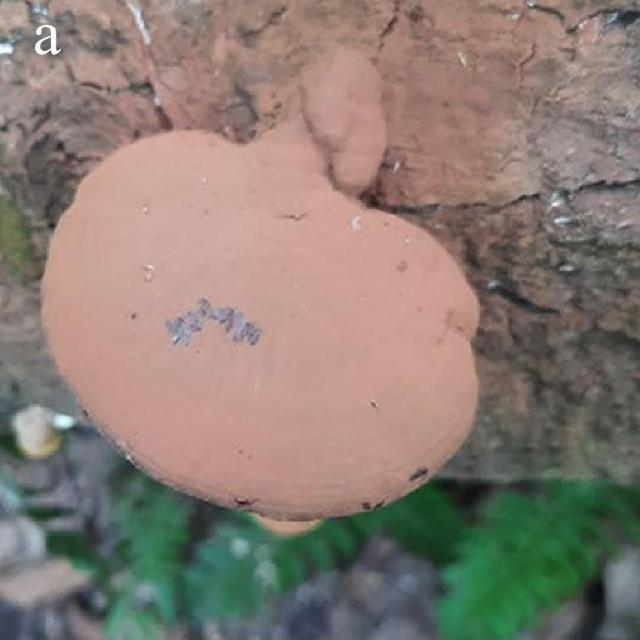ganoderma: (38, 125, 488, 527)
